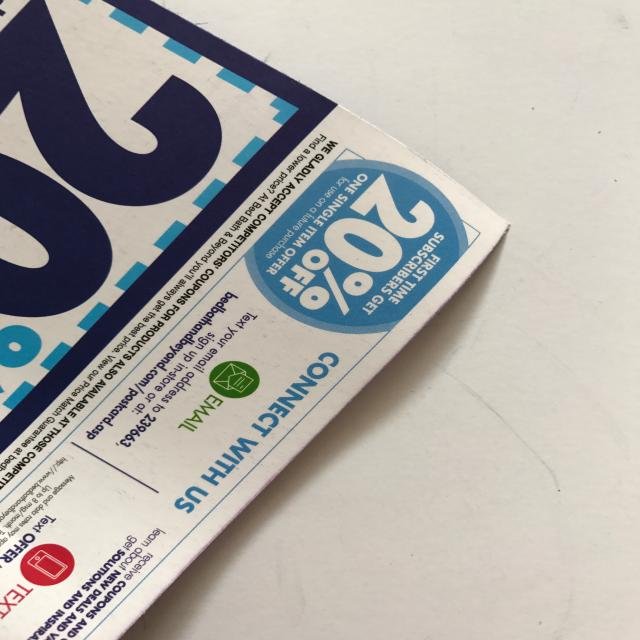paper: (0, 0, 629, 640)
